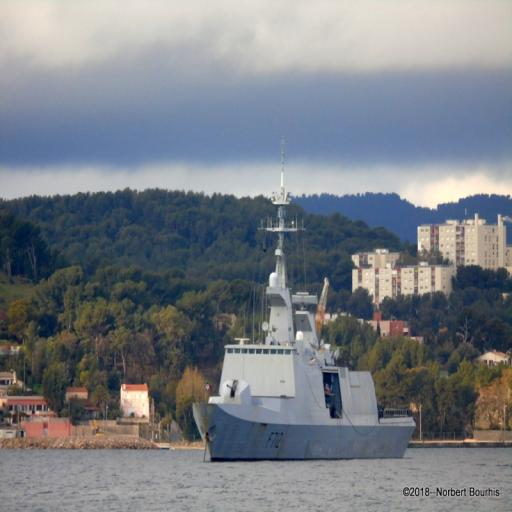Fragata: (189, 127, 421, 469)
